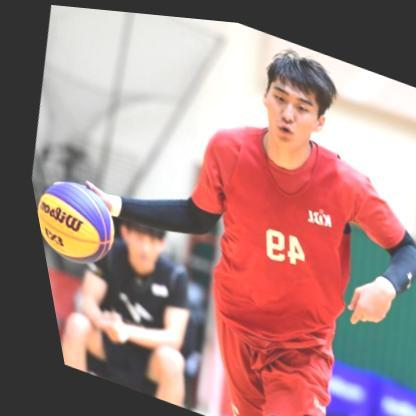basketball: (24, 169, 122, 276)
